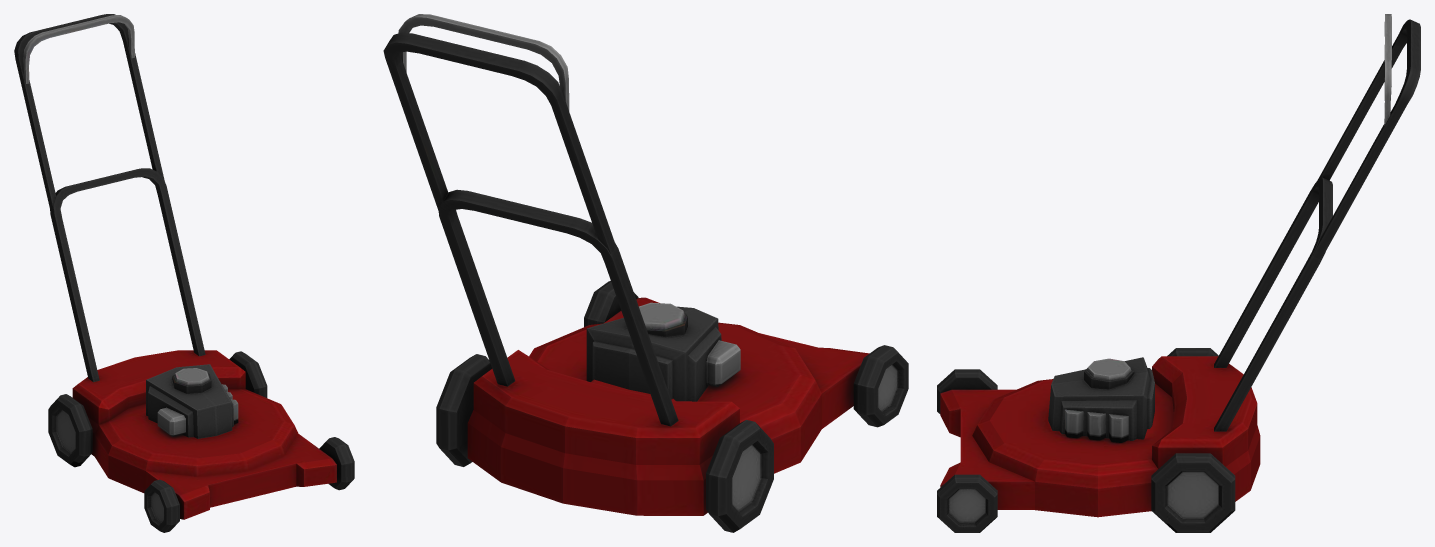
The model's file is m_mower.glb.
The picture shows the model from 3 angles, left to right: view 1: azimuth 30°, elevation 25°; view 2: azimuth 150°, elevation 25°; view 3: azimuth 270°, elevation 25°; orthographic projection. The views are drawn at different scales.
Parts seen in each view (by area): view 1: LawnMower_mesh; view 2: LawnMower_mesh; view 3: LawnMower_mesh.
Boxes of the visible parts, box(x1,y1,x2,y2) form: LawnMower_mesh: box(14, 14, 354, 532); LawnMower_mesh: box(383, 14, 908, 532); LawnMower_mesh: box(937, 14, 1420, 532).
Bounding box in the file's own units: 6.41 × 11.64 × 11.58.
1 material, 1 textured.
